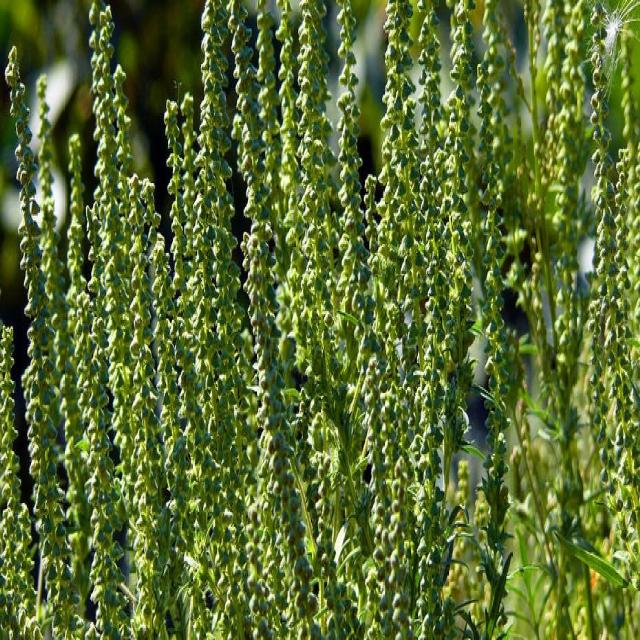ambrosia: (173, 3, 270, 630), (288, 3, 366, 640), (6, 56, 85, 640), (379, 23, 449, 621), (575, 21, 640, 640), (92, 8, 156, 614)
